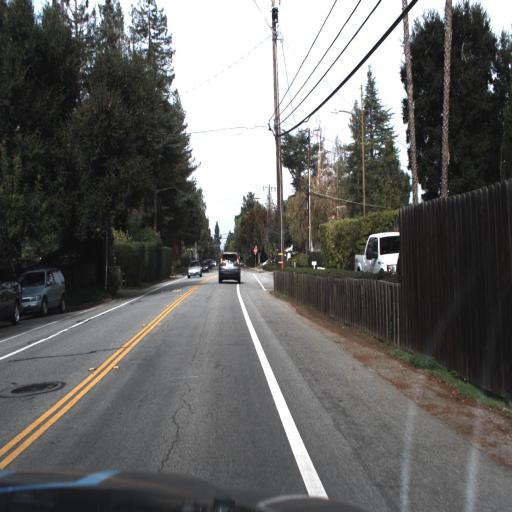car: (348, 229, 414, 283), (20, 259, 67, 321), (0, 253, 23, 330), (215, 253, 242, 291), (187, 253, 203, 279), (199, 256, 212, 275)
